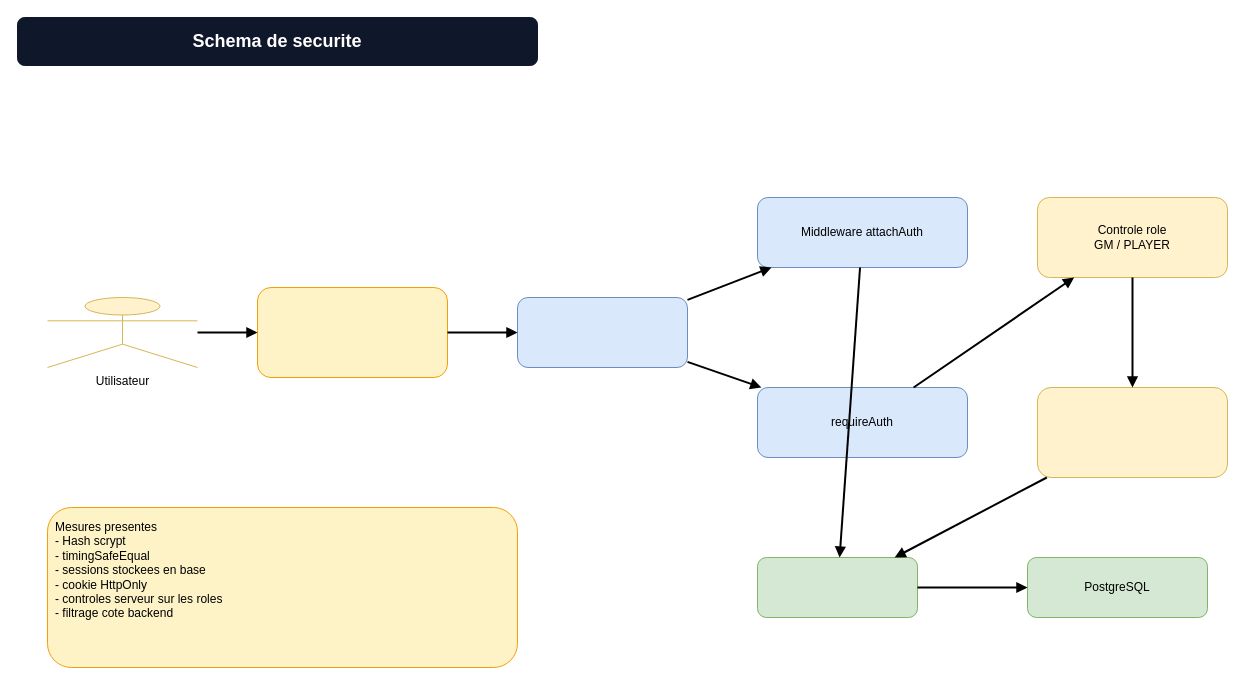
The diagram is 1245 pixels wide and 685 high, and some of its shapes have lost their labels. The shapes that lost their labels are listed below. From the top down, each one's centre as x and y in pixels, then its label:
At (352,332): "Cookie HttpOnly session token".
At (602,332): "API Express".
At (1132,432): "Filtrage donnees isVisible, joueur cible".
At (837,587): "Prisma".
